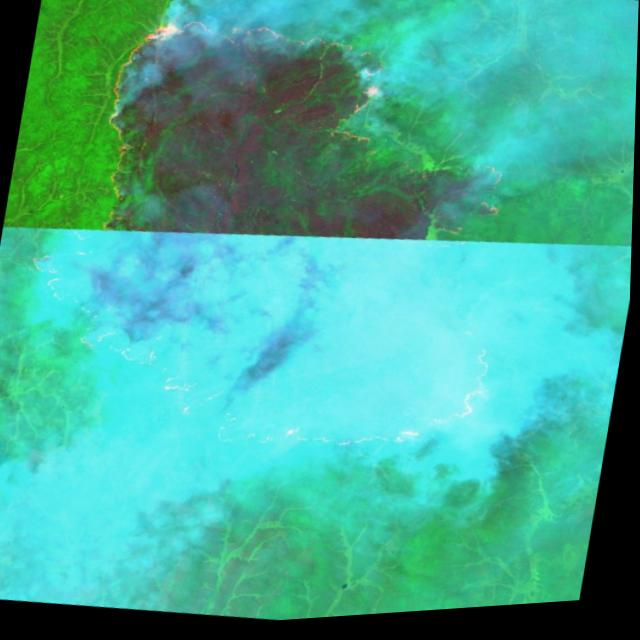fire: (3, 0, 557, 500)
